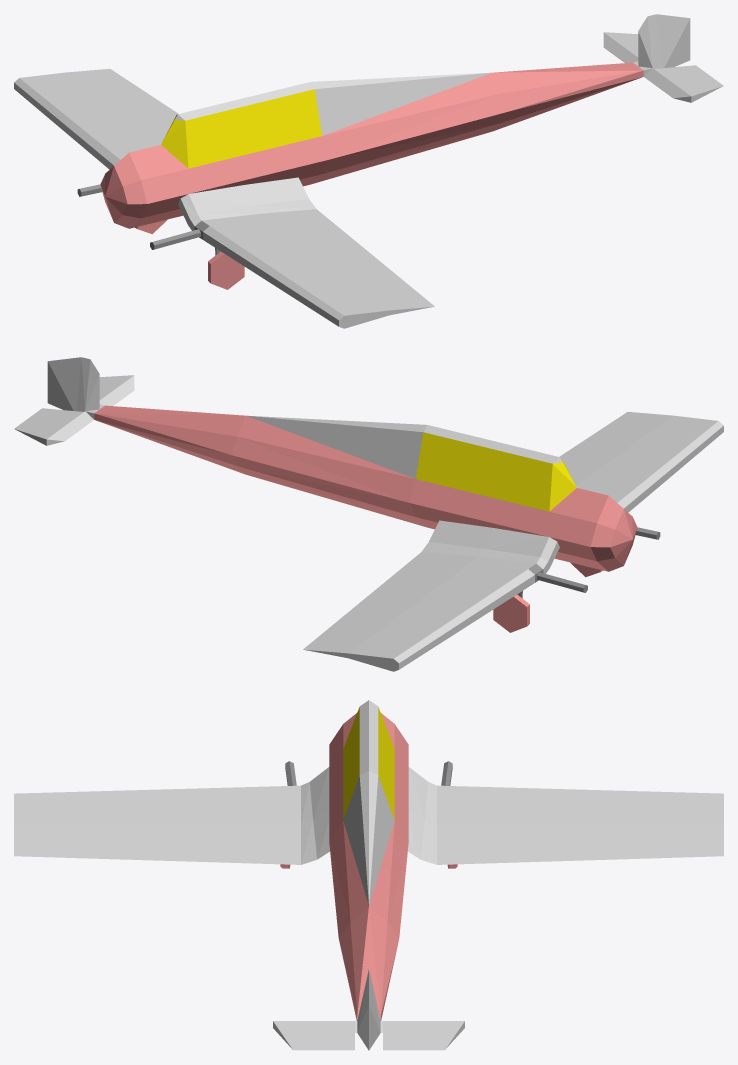
Rendered from Tornado.fbx.
3 renders of one model, top to bottom at view 1: azimuth 30°, elevation 25°; view 2: azimuth 150°, elevation 25°; view 3: azimuth 270°, elevation 25°, orthographic. The views are drawn at different scales.
Visible parts, largest first — view 1: Tornado; view 2: Tornado; view 3: Tornado.
Part boxes in pixels (x1=…): Tornado: x1=14, y1=14, x2=723, y2=328; Tornado: x1=14, y1=357, x2=723, y2=671; Tornado: x1=14, y1=700, x2=723, y2=1050.
Size of the model in its own units: 946 by 230 by 910.
